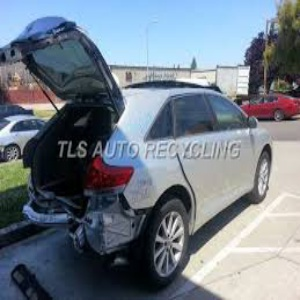bumper: (53, 199, 137, 258)
